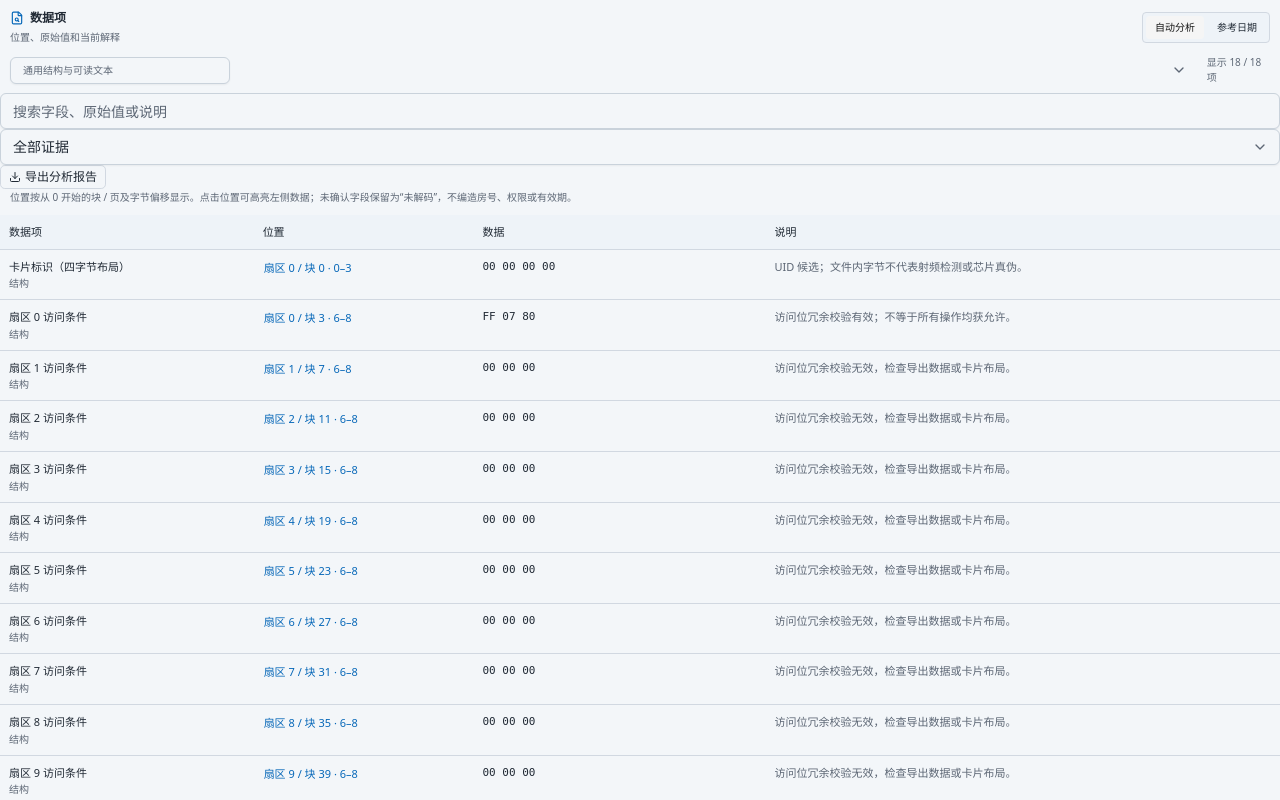
Test case: preserves invalid date bytes without publishing a calendar date
Click the button "参考日期". click: (1237, 28)
box: [1207, 15, 1267, 40]
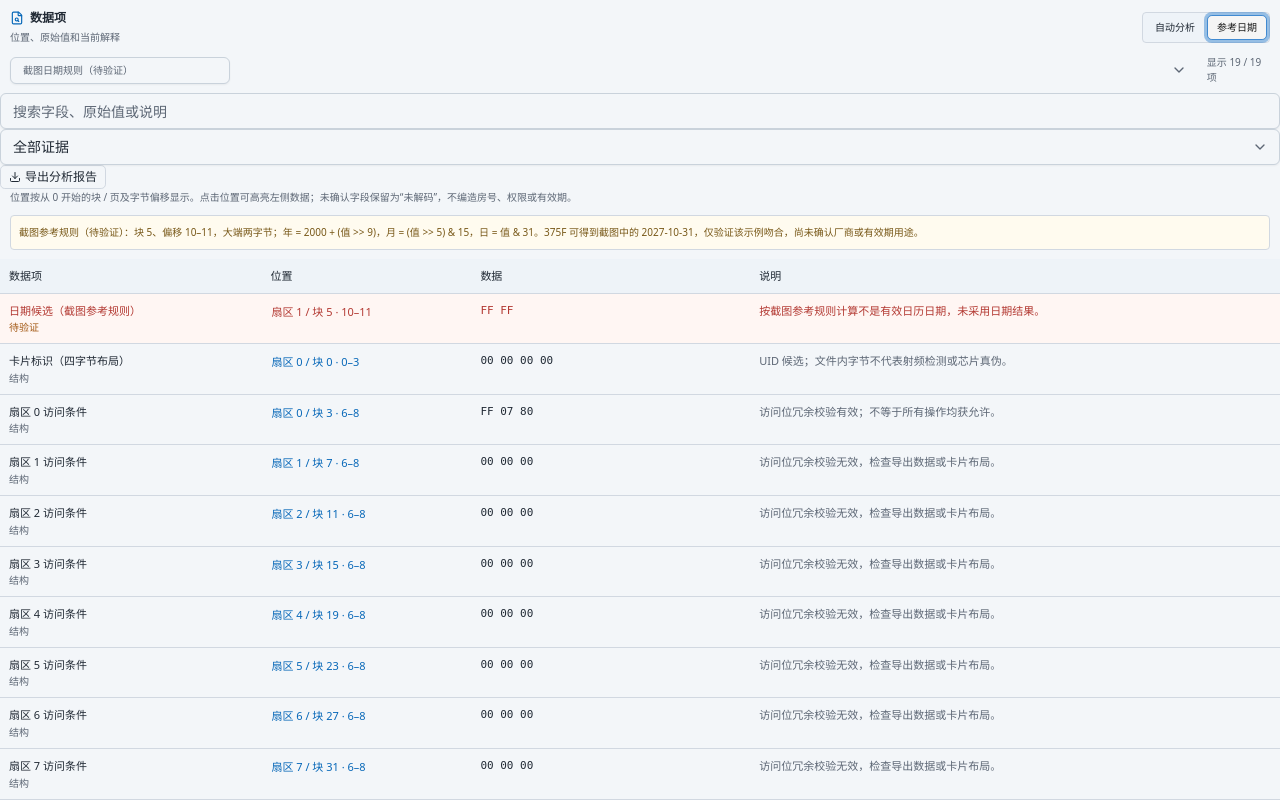
expect the text "FF FF" is shown: met, box [471, 294, 750, 344]
expect the text "按截图参考规则计算不是有效日历日期，未采用日期结果。" is shown: met, box [750, 294, 1279, 344]
